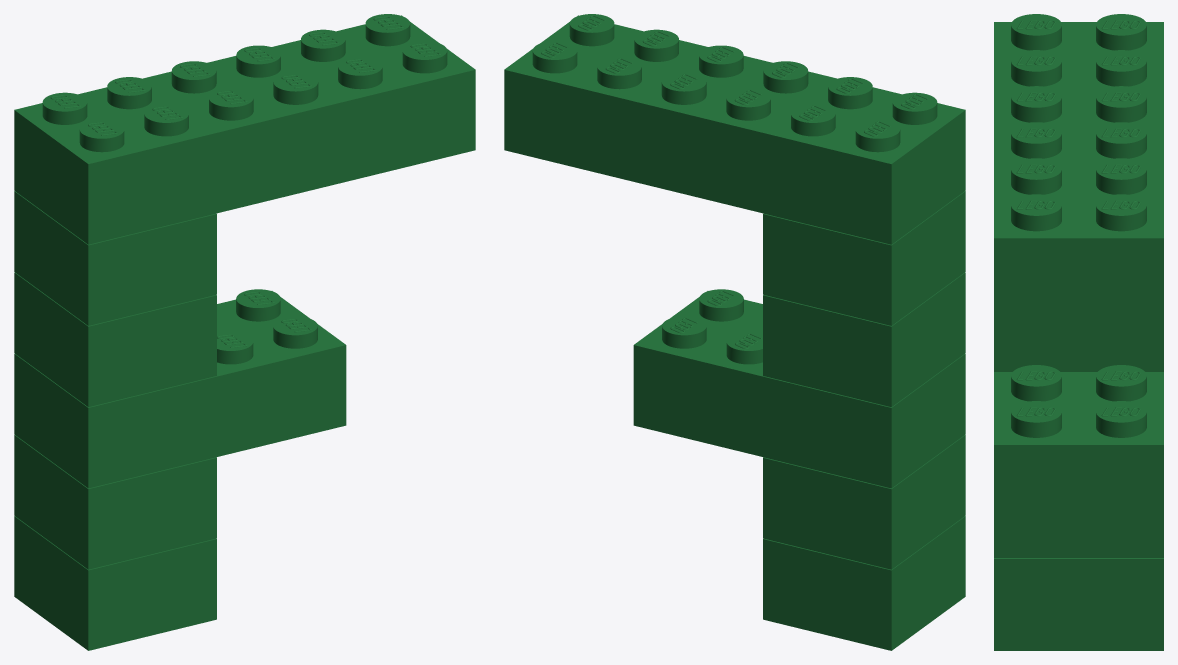
The picture shows the model from 3 angles, left to right: view 1: azimuth 30°, elevation 25°; view 2: azimuth 150°, elevation 25°; view 3: azimuth 270°, elevation 25°; orthographic projection. The views are drawn at different scales.
Parts seen in each view (by area): view 1: Inner-Node-F_dot_io-4, Inner-Node-F_dot_io-5, Inner-Node-F_dot_io-2, Inner-Node-F_dot_io-0, Inner-Node-F_dot_io-3, Inner-Node-F_dot_io-1; view 2: Inner-Node-F_dot_io-4, Inner-Node-F_dot_io-5, Inner-Node-F_dot_io-2, Inner-Node-F_dot_io-0, Inner-Node-F_dot_io-3, Inner-Node-F_dot_io-1; view 3: Inner-Node-F_dot_io-4, Inner-Node-F_dot_io-5, Inner-Node-F_dot_io-2, Inner-Node-F_dot_io-1, Inner-Node-F_dot_io-0.
Part boxes in pixels (<box>): Inner-Node-F_dot_io-4: <box>14,14,475,244</box>; Inner-Node-F_dot_io-5: <box>14,289,346,488</box>; Inner-Node-F_dot_io-2: <box>14,516,216,650</box>; Inner-Node-F_dot_io-0: <box>14,434,216,569</box>; Inner-Node-F_dot_io-3: <box>14,191,216,325</box>; Inner-Node-F_dot_io-1: <box>14,272,216,406</box>; Inner-Node-F_dot_io-4: <box>504,14,965,244</box>; Inner-Node-F_dot_io-5: <box>633,289,965,488</box>; Inner-Node-F_dot_io-2: <box>763,516,965,650</box>; Inner-Node-F_dot_io-0: <box>763,434,965,569</box>; Inner-Node-F_dot_io-3: <box>763,191,965,325</box>; Inner-Node-F_dot_io-1: <box>763,272,965,406</box>; Inner-Node-F_dot_io-4: <box>994,14,1163,330</box>; Inner-Node-F_dot_io-5: <box>994,365,1163,537</box>; Inner-Node-F_dot_io-2: <box>994,558,1163,650</box>; Inner-Node-F_dot_io-1: <box>994,330,1163,371</box>; Inner-Node-F_dot_io-0: <box>994,537,1163,557</box>.
Bounding box in the file's own units: 120 × 148 × 39.75.
